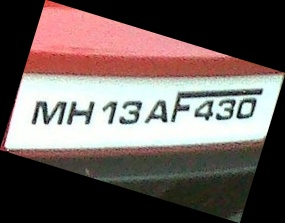character: (29, 99, 66, 125), (66, 100, 96, 125), (170, 89, 192, 123), (117, 100, 142, 125), (143, 99, 168, 123), (235, 96, 256, 120), (214, 98, 235, 121), (194, 98, 213, 122), (101, 100, 117, 125)
